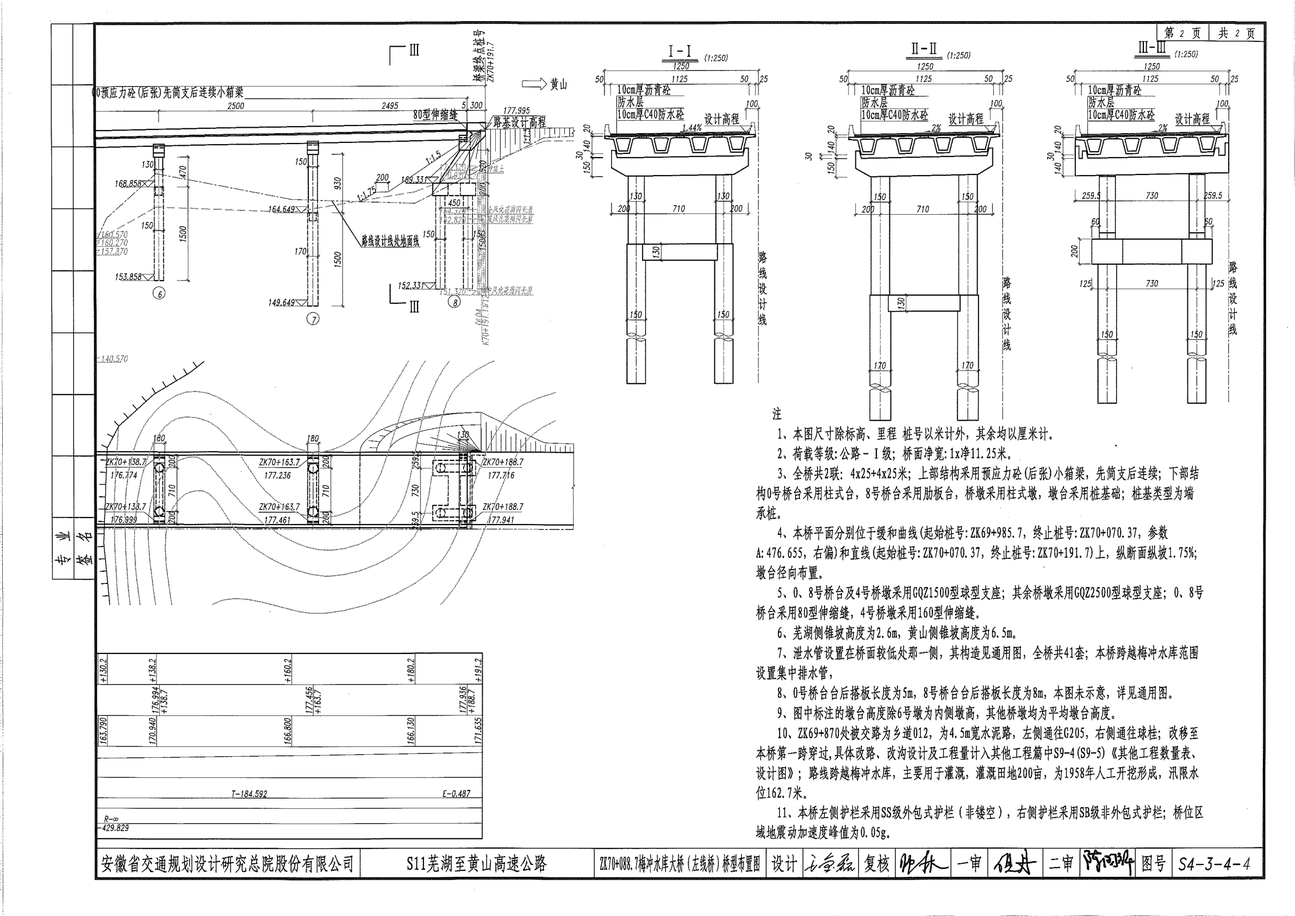A: (95, 29, 581, 375)
